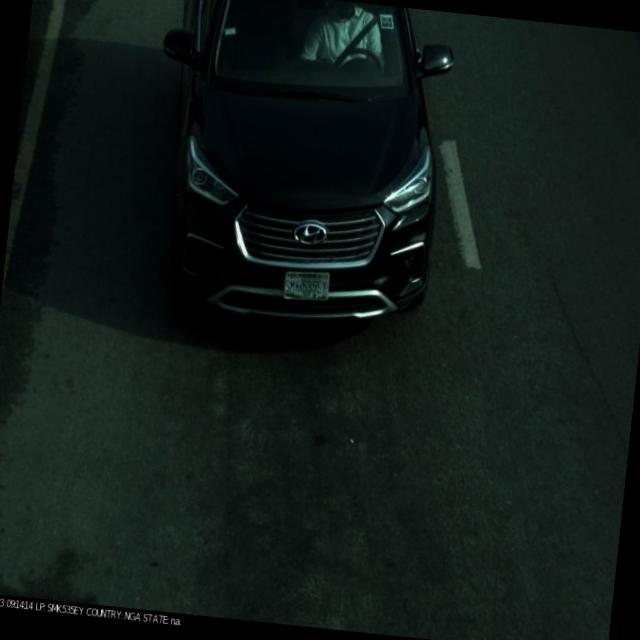person_with_seatbelt: (297, 0, 401, 91)
